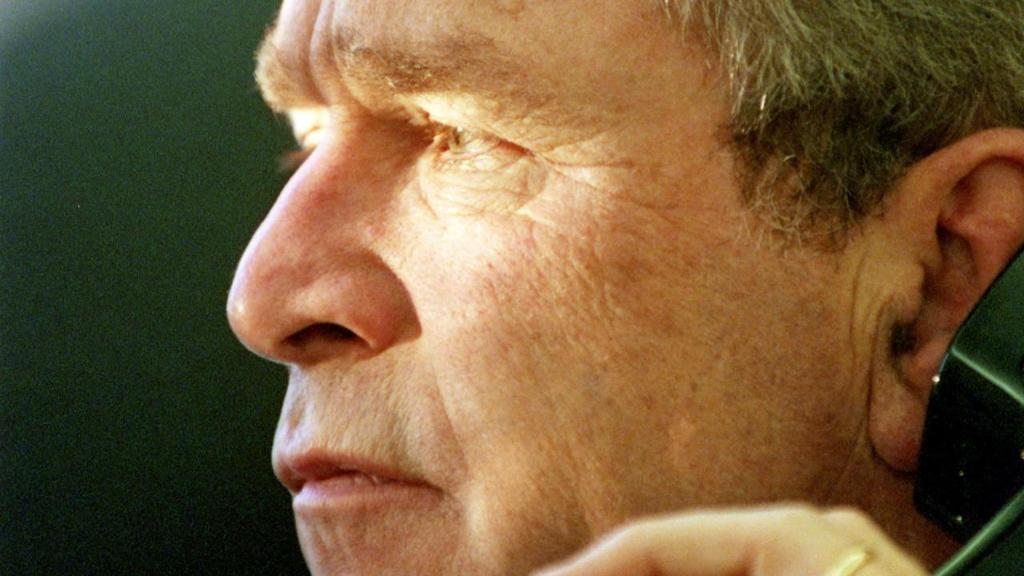face: (228, 0, 890, 576)
